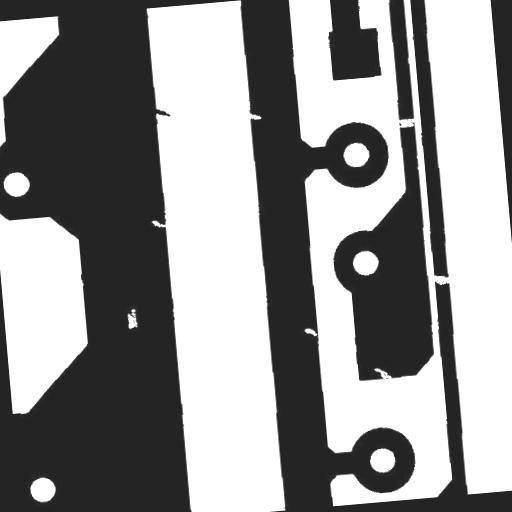mousebite: (366, 358, 400, 388), (144, 211, 176, 236), (238, 104, 270, 128), (296, 320, 326, 344)
open: (424, 266, 460, 294), (388, 110, 424, 136)
pin-hole: (118, 300, 146, 336)
spur: (144, 99, 178, 126)
